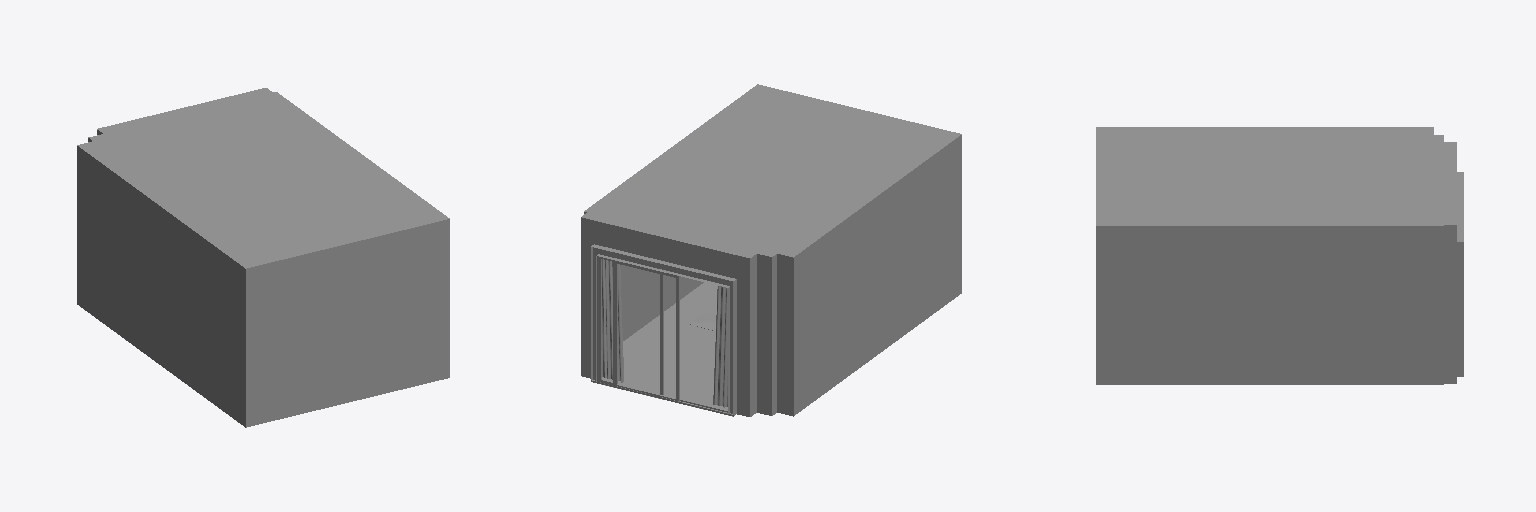
The model's file is bedroom10_layout.obj.
3 renders of one model, left to right at view 1: azimuth 30°, elevation 25°; view 2: azimuth 150°, elevation 25°; view 3: azimuth 270°, elevation 25°, orthographic.
Visible parts, largest first — view 1: walls.001, ceiling.006; view 2: walls.001, ceiling.006, floor.007, window.008, curtain.007; view 3: walls.001, ceiling.006.
Boxes of the visible parts, x1,y1,x2,y2 form: walls.001: [77, 130, 449, 427]; ceiling.006: [77, 88, 449, 268]; walls.001: [581, 135, 961, 416]; ceiling.006: [582, 84, 961, 257]; floor.007: [623, 282, 717, 396]; window.008: [593, 247, 732, 413]; curtain.007: [602, 259, 727, 407]; walls.001: [1096, 172, 1463, 384]; ceiling.006: [1096, 127, 1456, 225].
Size of the model in its own units: 3.5 by 2.6 by 5.45.